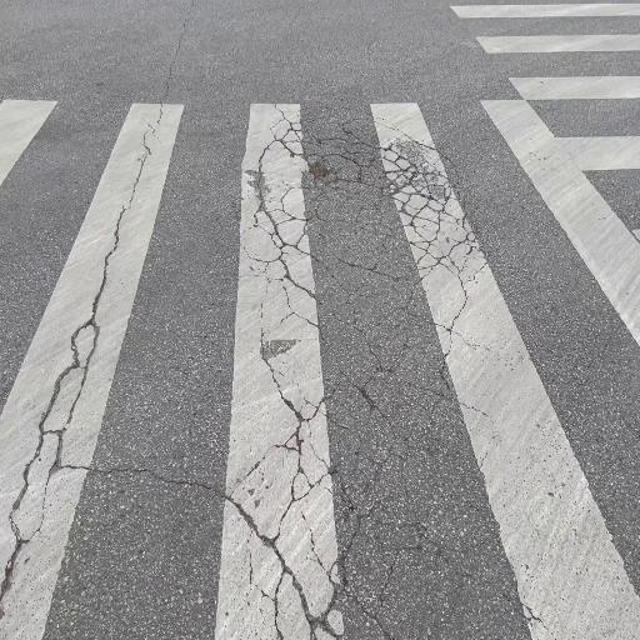Retak Buaya: (240, 123, 504, 353)
